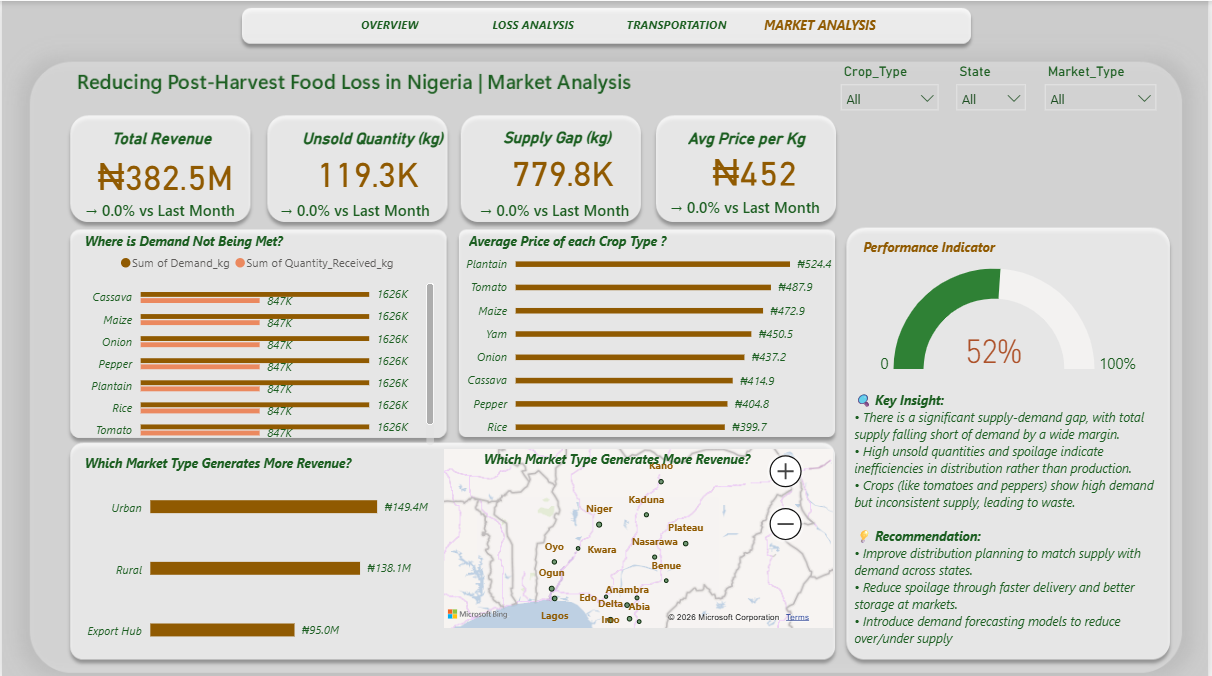

This screenshot's page, from the dashboard's own definition file:
{"tool":"powerbi","page":{"name":"MARKET ANALYSIS","canvas":[1280,720],"ordinal":3},"visuals":[{"type":"map","title":"Geographic Distribution of Food Loss in Nigeria","fields":{"Category":["farm_production.State"],"Size":["_Measures_Overview.Total Production"]},"box":[462.9,469.2,423.1,238.6],"z":0},{"type":"card","fields":{"Values":["--Measure Market.Total Revenue"]},"box":[93.8,159.1,157.5,49.3],"z":1000},{"type":"card","fields":{"Values":["--Measure Market.Unsold Quantity (kg)"]},"box":[310.7,154.3,154.3,52.5],"z":2000},{"type":"textbox","box":[83.5,240,319.3,29.2],"z":3000},{"type":"textbox","box":[313.4,131,179.3,37.9],"z":4000},{"type":"card","fields":{"Values":["--Measure Market.Avg Price"]},"box":[722.1,159.1,151.1,41.4],"z":5000},{"type":"textbox","box":[721.7,130,186.7,50],"z":6000},{"type":"card","fields":{"Values":["--Measure Market.Supply Gap"]},"box":[524.4,157.5,138.4,44.5],"z":7000},{"type":"textbox","box":[526.2,129.3,162.1,37.9],"z":8000},{"type":"clusteredBarChart","fields":{"Category":["farm_production.Crop_Type"],"Y":["Sum(market_demand.Demand_kg)","Sum(market_demand.Quantity_Received_kg)"]},"box":[82,258,380,218],"z":9000},{"type":"textbox","box":[111.3,130.4,168.6,38.2],"z":10000},{"type":"textbox","box":[490.4,240,336,43.8],"z":11000},{"type":"barChart","fields":{"Category":["market_demand.Market_Type"],"Y":["--Measure Market.Total Revenue"]},"box":[78,490,406,218],"z":12000},{"type":"textbox","box":[505.6,470.4,344,28.8],"z":13000},{"type":"textbox","box":[83,475.9,320,28.4],"z":14000},{"type":"barChart","fields":{"Category":["market_demand.Crop_Type"],"Y":["--Measure Market.Avg Price"]},"box":[480,252.5,404.9,217],"z":15000},{"type":"pageNavigator","box":[340,13.3,601.7,25],"z":16000},{"type":"slicer","fields":{"Values":["Dim_Crop.Crop_Type"]},"box":[879,60.8,123.5,62.8],"z":17000},{"type":"slicer","fields":{"Values":["farm_production.State"]},"box":[1002.5,60.8,93.2,62.8],"z":18000},{"type":"slicer","fields":{"Values":["market_demand.Market_Type"]},"box":[1095.7,60.8,137.7,62.8],"z":19000},{"type":"textbox","box":[899.2,409.1,334.2,285.6],"z":20000},{"type":"gauge","fields":{"MinValue":["--Measure Market.Minimum value"],"Y":["--Measure Market.Supply Efficiency %"]},"box":[900.8,278.4,332.8,121.6],"z":21000},{"type":"textbox","box":[908,246,274,28],"z":22000},{"type":"cardVisual","fields":{"Data":["--Measure Market.Revenue Subtext"]},"box":[58.7,192.4,228.9,56.7],"z":23000},{"type":"cardVisual","fields":{"Data":["--Measure Market.Supply Gap Subtext"]},"box":[478,192.4,228.9,56.7],"z":24000},{"type":"cardVisual","fields":{"Data":["--Measure Market.Unsold Subtext"]},"box":[265.6,192.5,229,57.3],"z":25000},{"type":"cardVisual","fields":{"Data":["--Measure Market.Price Subtext"]},"box":[679.2,189.3,229,57.3],"z":26000}]}

Visuals, with their boxes in screenshot pixels (x1, y1, x2, y2), scaled from the page's 1280x720 canvas onto the 1212x676 screenshot:
"Geographic Distribution of Food Loss in Nigeria" map: {"x1": 438, "y1": 441, "x2": 839, "y2": 665}
card - --Measure Market.Total Revenue: {"x1": 89, "y1": 149, "x2": 238, "y2": 196}
card - --Measure Market.Unsold Quantity (kg): {"x1": 294, "y1": 145, "x2": 440, "y2": 194}
textbox: {"x1": 79, "y1": 225, "x2": 381, "y2": 253}
textbox: {"x1": 297, "y1": 123, "x2": 467, "y2": 159}
card - --Measure Market.Avg Price: {"x1": 684, "y1": 149, "x2": 827, "y2": 188}
textbox: {"x1": 683, "y1": 122, "x2": 860, "y2": 169}
card - --Measure Market.Supply Gap: {"x1": 497, "y1": 148, "x2": 628, "y2": 190}
textbox: {"x1": 498, "y1": 121, "x2": 652, "y2": 157}
clusteredBarChart - farm_production.Crop_Type x Sum(market_demand.Demand_kg): {"x1": 78, "y1": 242, "x2": 437, "y2": 447}
textbox: {"x1": 105, "y1": 122, "x2": 265, "y2": 158}
textbox: {"x1": 464, "y1": 225, "x2": 782, "y2": 266}
barChart - market_demand.Market_Type x --Measure Market.Total Revenue: {"x1": 74, "y1": 460, "x2": 458, "y2": 665}
textbox: {"x1": 479, "y1": 442, "x2": 804, "y2": 469}
textbox: {"x1": 79, "y1": 447, "x2": 382, "y2": 473}
barChart - market_demand.Crop_Type x --Measure Market.Avg Price: {"x1": 454, "y1": 237, "x2": 838, "y2": 441}
pageNavigator: {"x1": 322, "y1": 12, "x2": 892, "y2": 36}
slicer - Dim_Crop.Crop_Type: {"x1": 832, "y1": 57, "x2": 949, "y2": 116}
slicer - farm_production.State: {"x1": 949, "y1": 57, "x2": 1037, "y2": 116}
slicer - market_demand.Market_Type: {"x1": 1037, "y1": 57, "x2": 1168, "y2": 116}
textbox: {"x1": 851, "y1": 384, "x2": 1168, "y2": 652}
gauge - --Measure Market.Minimum value x --Measure Market.Supply Efficiency %: {"x1": 853, "y1": 261, "x2": 1168, "y2": 376}
textbox: {"x1": 860, "y1": 231, "x2": 1119, "y2": 257}
cardVisual - --Measure Market.Revenue Subtext: {"x1": 56, "y1": 181, "x2": 272, "y2": 234}
cardVisual - --Measure Market.Supply Gap Subtext: {"x1": 453, "y1": 181, "x2": 669, "y2": 234}
cardVisual - --Measure Market.Unsold Subtext: {"x1": 251, "y1": 181, "x2": 468, "y2": 235}
cardVisual - --Measure Market.Price Subtext: {"x1": 643, "y1": 178, "x2": 860, "y2": 232}
